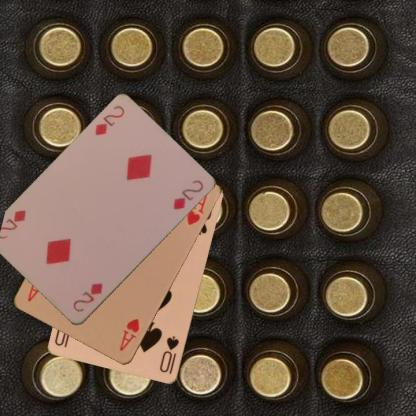10s: (157, 334, 180, 376)
2d: (92, 102, 126, 138), (70, 280, 104, 314)
Ah: (117, 316, 141, 353)
